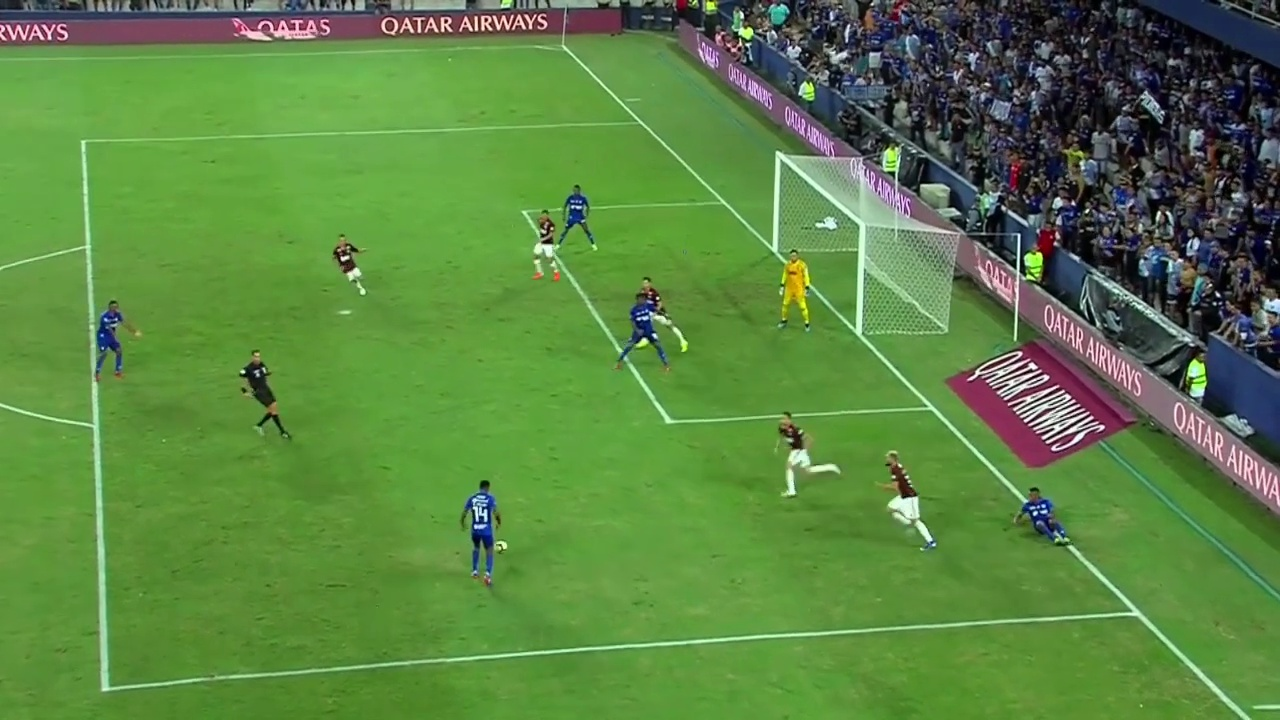ball: (494, 539, 509, 554)
player: (875, 448, 940, 553), (770, 411, 841, 499), (457, 477, 510, 590), (613, 290, 674, 374), (88, 299, 142, 383), (635, 275, 690, 352), (1009, 486, 1071, 548), (773, 249, 817, 335), (523, 208, 565, 283), (557, 184, 600, 252), (328, 233, 370, 297)
referee: (236, 349, 295, 443)
